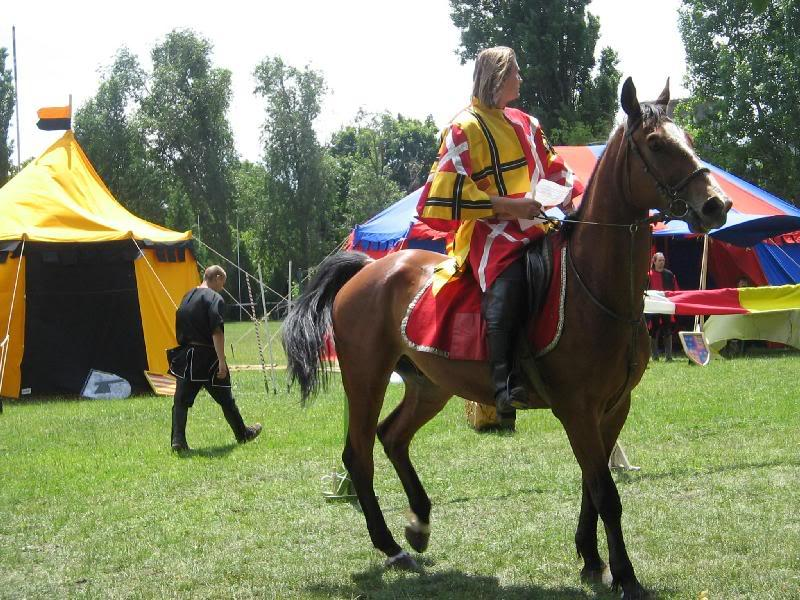person: (414, 43, 589, 440)
